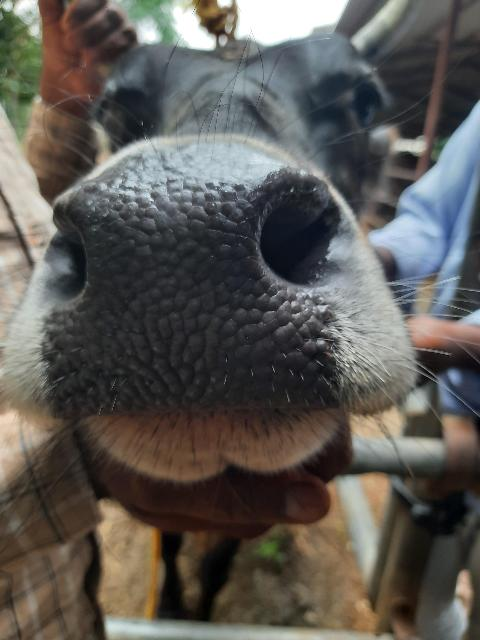Muzzle: (82, 172, 262, 414)
